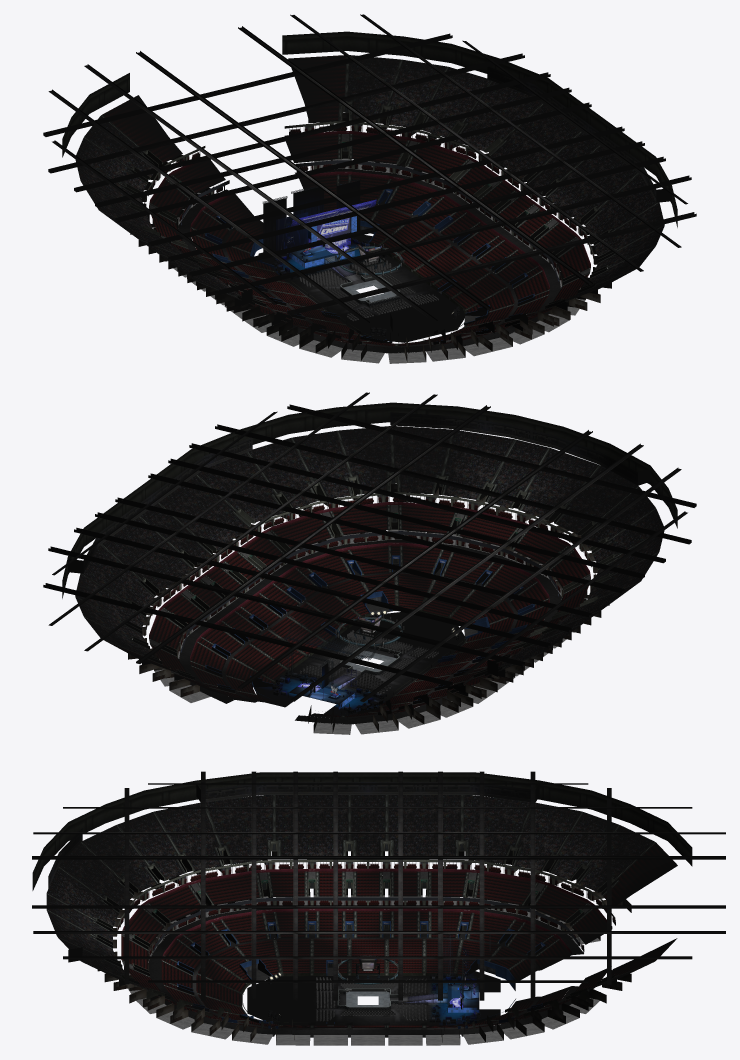
File: smackdown_arena.glb
3 renders of one model, top to bottom at view 1: azimuth 30°, elevation 25°; view 2: azimuth 150°, elevation 25°; view 3: azimuth 270°, elevation 25°, orthographic.
Visible parts, largest first — view 1: Stands, MoveCamOnly_Stands, Floor, Stage, RingsideSeats, Titantron, EventOnly_Stands, Ramp; view 2: Stands, MoveCamOnly_Stands, Floor, Stage, RingsideSeats, EventOnly_Stands, Ramp; view 3: Stands, MoveCamOnly_Stands, Floor, RingsideSeats, Stage, EventOnly_Stands, Ramp, FloorMats, Barricade.
Boxes of the visible parts, x1,y1,x2,y2 form: Stands: (62,31,677,363); MoveCamOnly_Stands: (43,14,696,323); Floor: (258,235,465,342); Stage: (262,178,460,337); RingsideSeats: (299,258,438,321); Titantron: (291,199,376,253); EventOnly_Stands: (181,160,558,280); Ramp: (291,246,359,281); Stands: (62,402,677,734); MoveCamOnly_Stands: (43,392,696,701); Floor: (254,612,465,715); Stage: (262,610,460,713); RingsideSeats: (300,630,438,693); EventOnly_Stands: (181,531,558,651); Ramp: (288,672,359,704); Stands: (32,772,692,1045); MoveCamOnly_Stands: (32,771,725,1000); Floor: (247,971,500,1027); RingsideSeats: (316,977,428,1021); Stage: (268,934,490,1025); EventOnly_Stands: (153,897,580,952); Ramp: (397,983,479,1012); FloorMats: (346,991,389,1006); Barricade: (337,988,398,1010).
Size of the model in its own units: 189 by 49.31 by 226.
98 materials, 98 textured.
